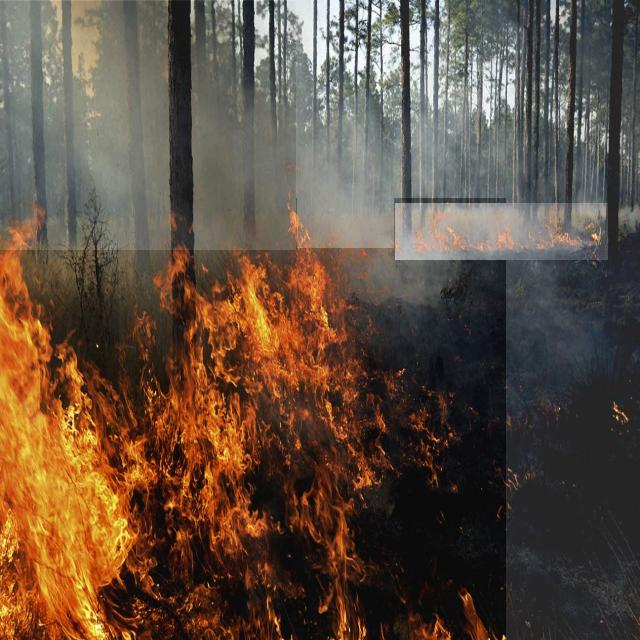Fire: (0, 198, 506, 640), (395, 203, 608, 260)
Smoke: (0, 1, 296, 250), (297, 107, 394, 248)
